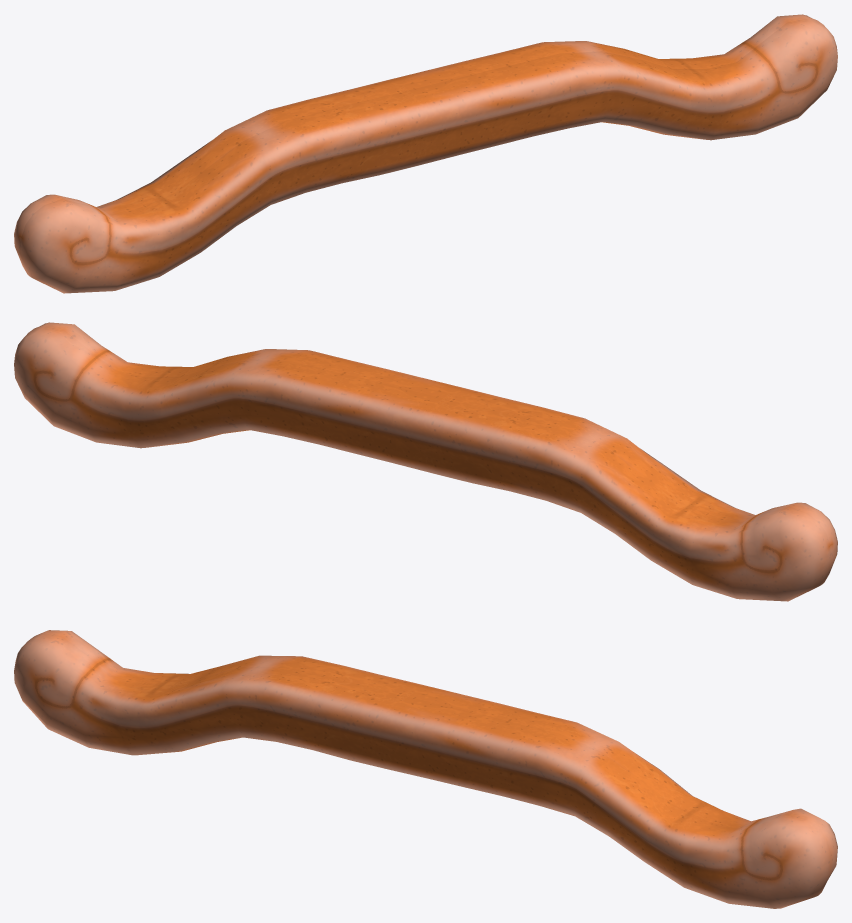
File: tejado_2.fbx
The picture shows the model from 3 angles, top to bottom: view 1: azimuth 30°, elevation 25°; view 2: azimuth 150°, elevation 25°; view 3: azimuth 330°, elevation 25°; orthographic projection.
Parts seen in each view (by area): view 1: ZBrush_defualt_group; view 2: ZBrush_defualt_group; view 3: ZBrush_defualt_group.
Boxes of the visible parts, x1,y1,x2,y2 form: ZBrush_defualt_group: [14, 14, 837, 293]; ZBrush_defualt_group: [14, 322, 837, 601]; ZBrush_defualt_group: [14, 630, 837, 908].
Size of the model in its own units: 831 by 117 by 79.62.
1 material, 1 textured.
